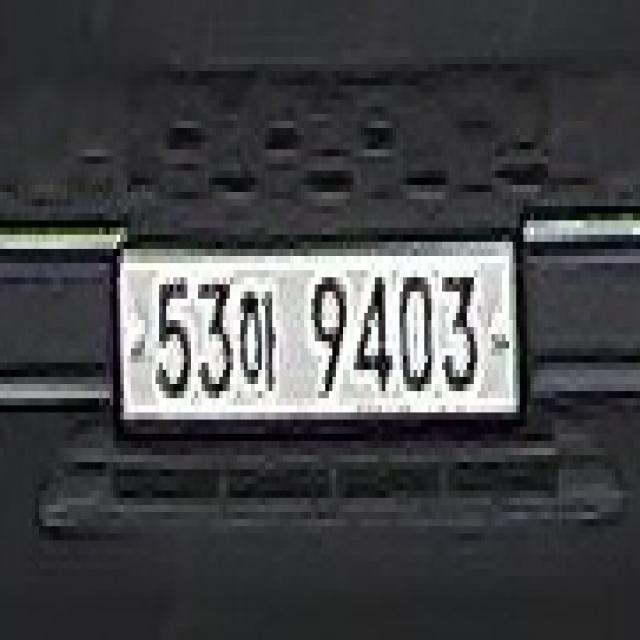0: (392, 263, 446, 391)
3: (438, 263, 484, 398), (194, 263, 230, 398)
4: (350, 270, 393, 398)
5: (152, 263, 191, 398)
9: (308, 270, 350, 398)
ha: (233, 278, 290, 412)
license_plate: (106, 228, 523, 427)
